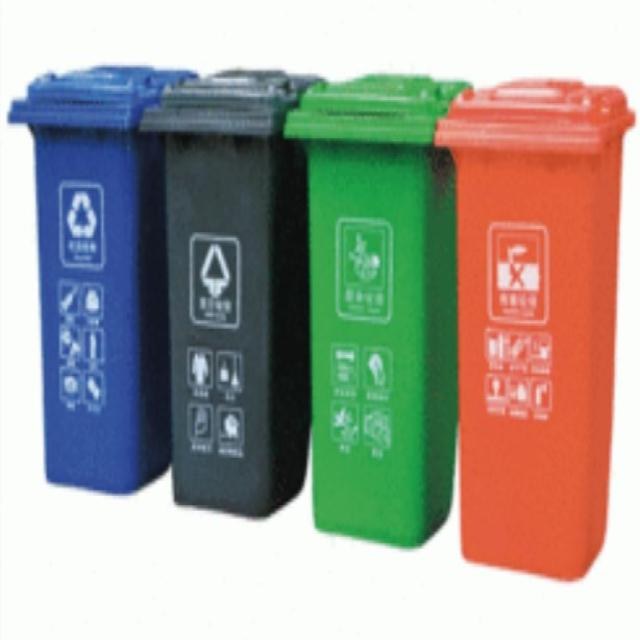garbage_bin: (431, 78, 635, 582), (282, 70, 472, 546), (137, 65, 326, 519), (5, 64, 196, 493)
